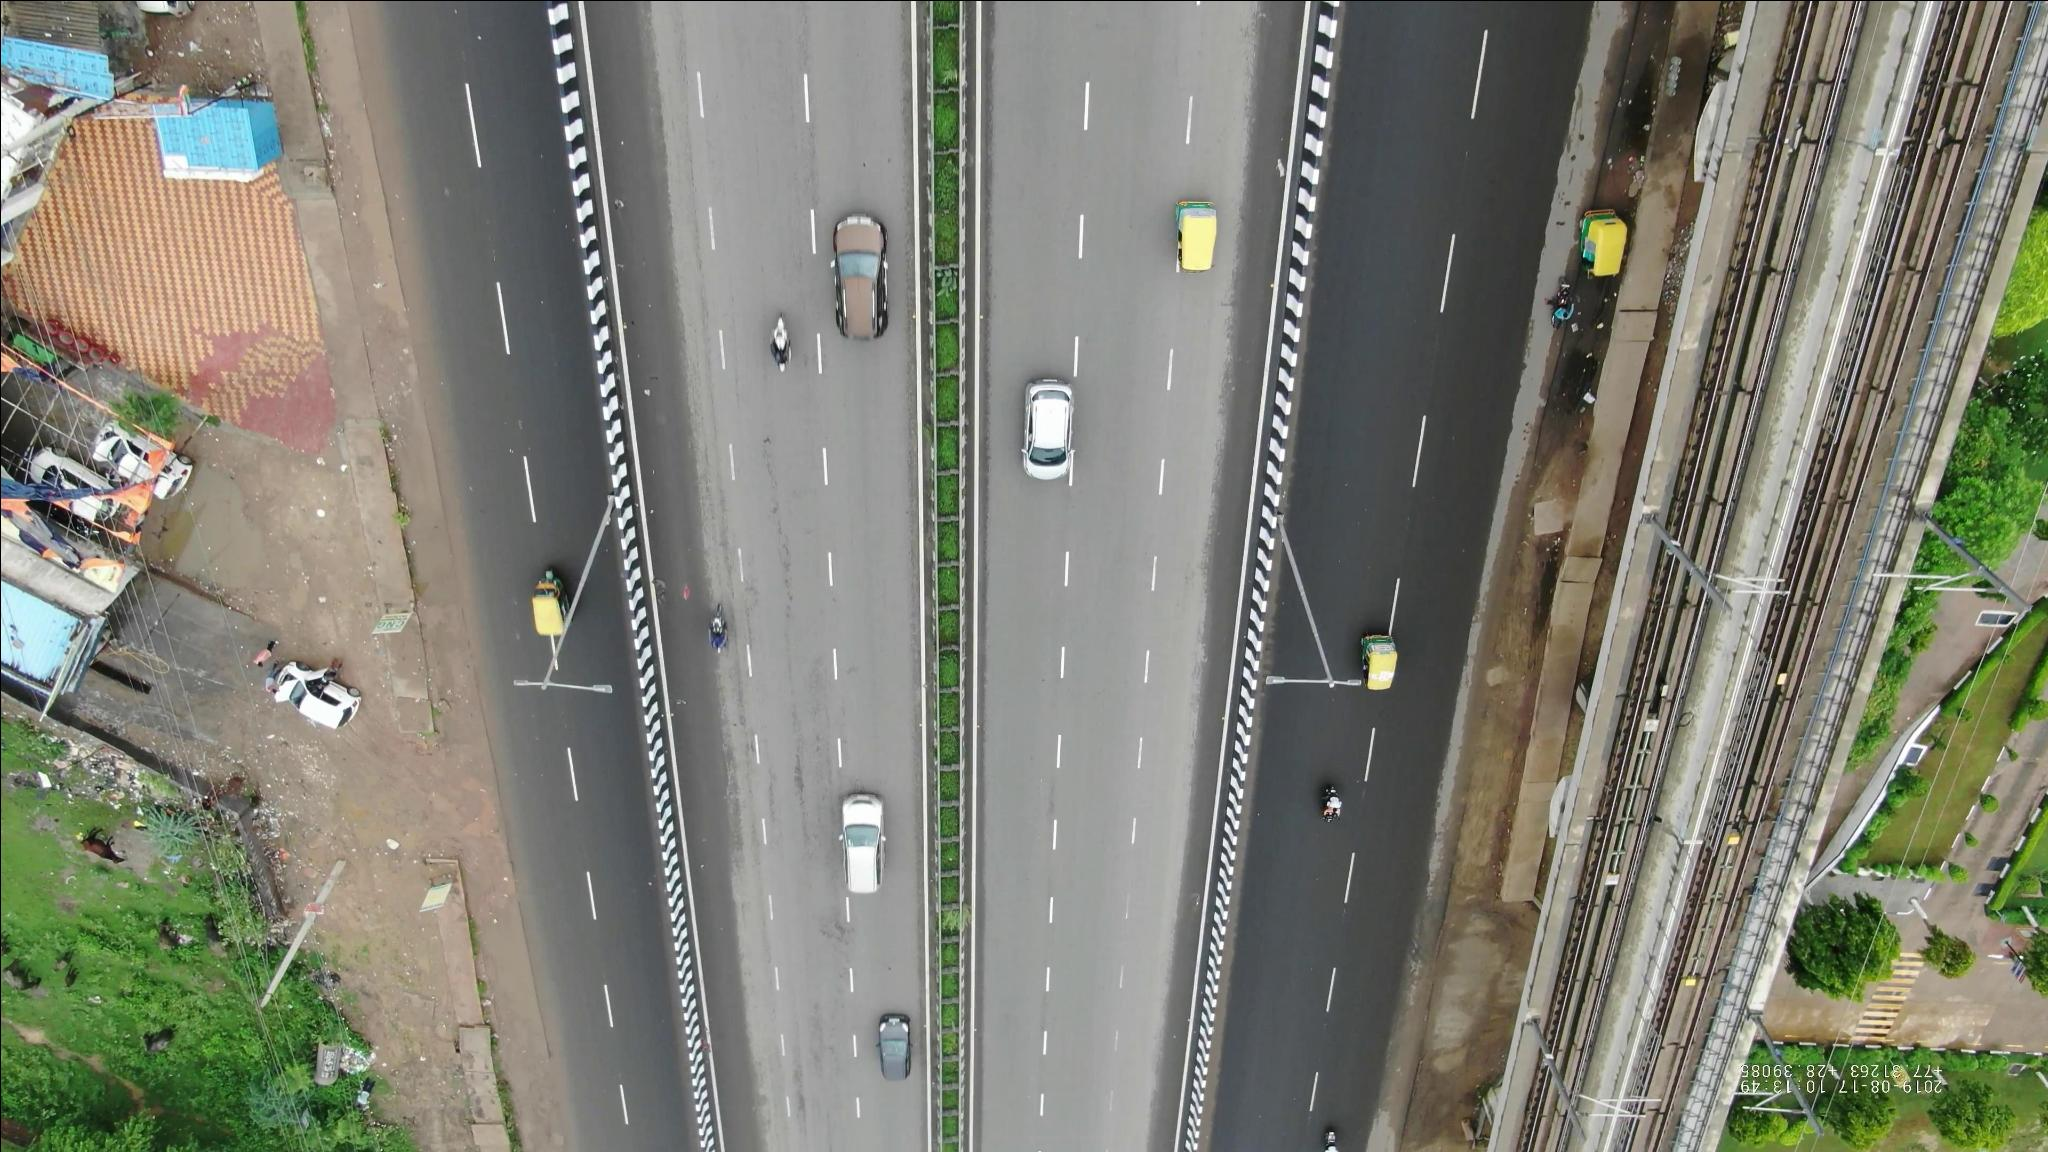Ravelling: (760, 452, 807, 792)
